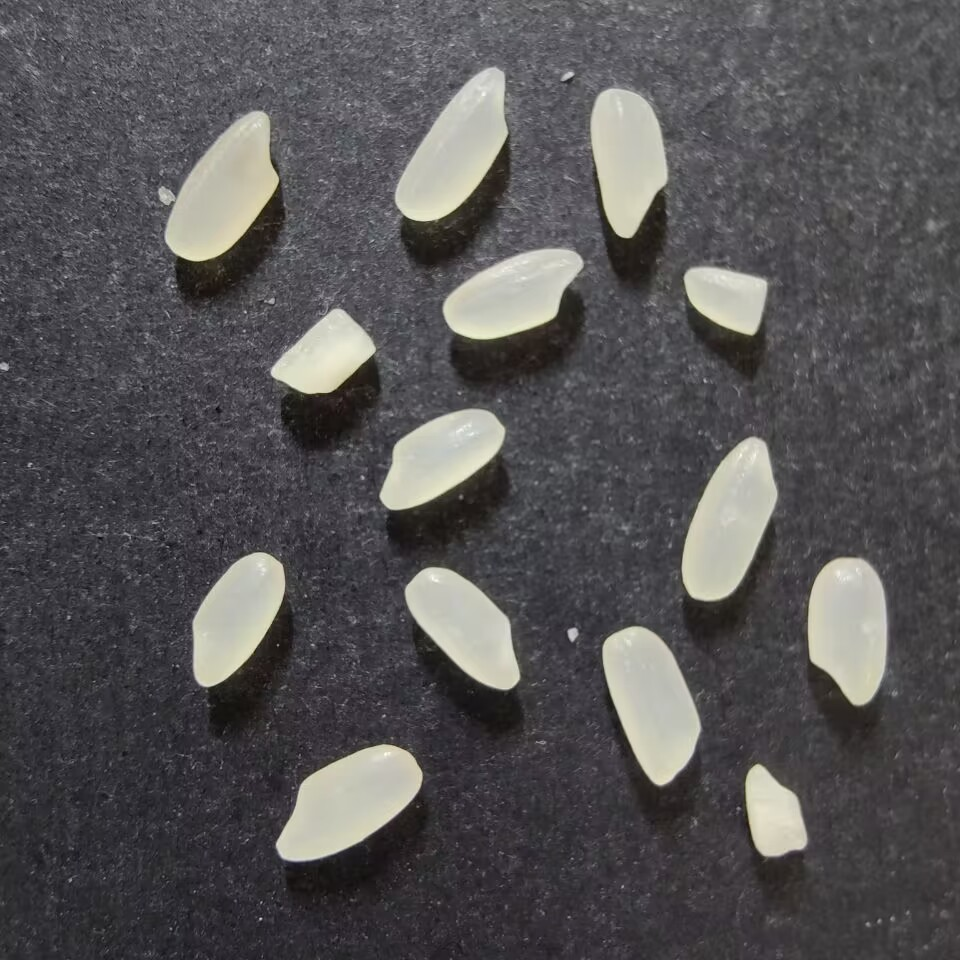broken: (269, 308, 376, 395), (745, 763, 809, 857), (683, 266, 768, 336)
rice: (393, 66, 509, 222), (275, 743, 423, 862), (164, 110, 279, 262), (680, 436, 778, 602), (601, 625, 702, 786), (403, 566, 520, 691), (190, 551, 285, 689), (442, 248, 583, 340), (379, 408, 505, 509), (806, 556, 887, 706), (589, 88, 669, 239)
